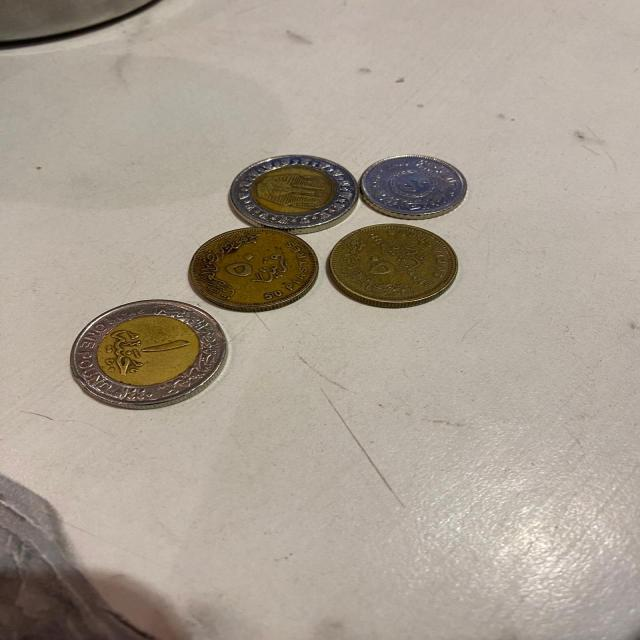Half Pound: (330, 221, 460, 311), (188, 227, 320, 312)
One Pound: (70, 299, 227, 409), (230, 152, 358, 231)
quarter pound: (359, 150, 472, 218)
